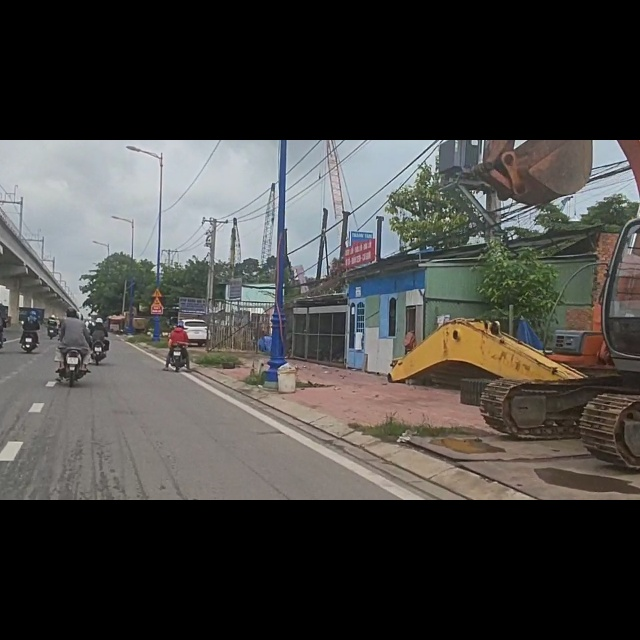bien_nguy_hiem: (151, 279, 163, 297), (152, 262, 163, 279)
